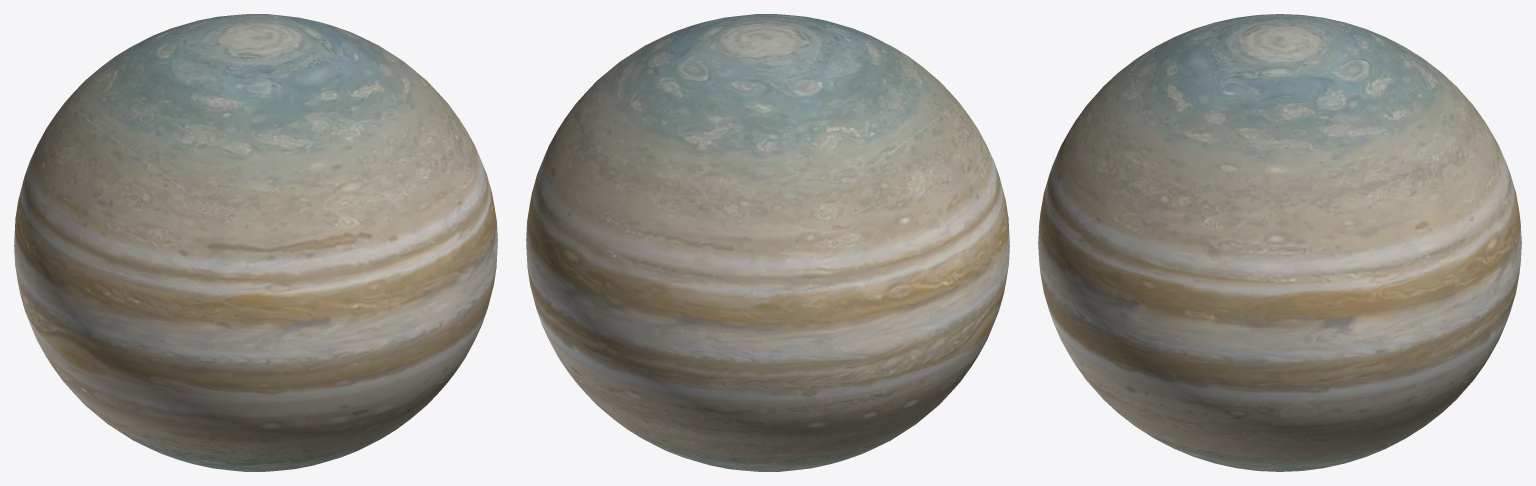
Rendered from nasaJupiter-transformed.glb.
The picture shows the model from 3 angles, left to right: view 1: azimuth 30°, elevation 25°; view 2: azimuth 150°, elevation 25°; view 3: azimuth 270°, elevation 25°; orthographic projection.
Visible parts, largest first — view 1: cubemap; view 2: cubemap; view 3: cubemap.
Boxes of the visible parts, <box> form: cubemap: <box>14,14,497,471</box>; cubemap: <box>526,14,1009,471</box>; cubemap: <box>1038,14,1521,471</box>.
Bounding box in the file's own units: 1000 × 935 × 1000.
1 material, 1 textured.
